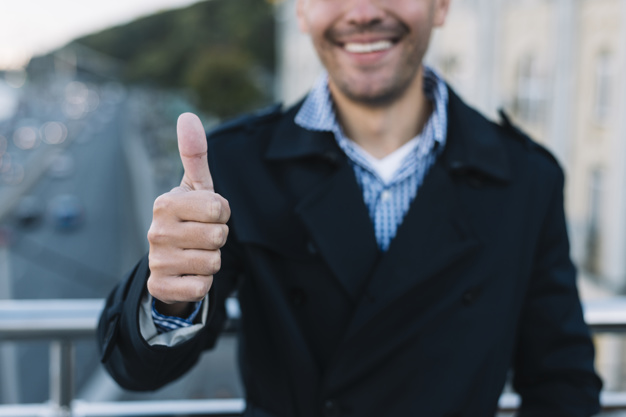thumbsup: (147, 112, 231, 302)
